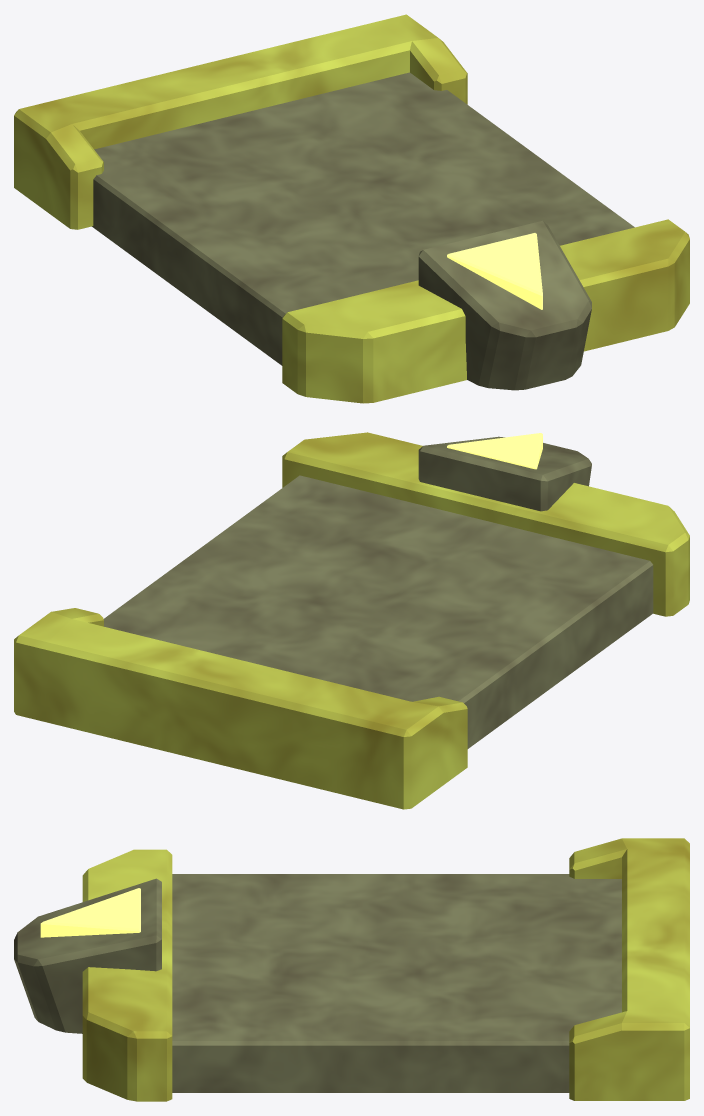
The model's file is yellow_baseplate.glb.
3 renders of one model, top to bottom at view 1: azimuth 30°, elevation 25°; view 2: azimuth 150°, elevation 25°; view 3: azimuth 270°, elevation 25°, orthographic. The views are drawn at different scales.
Visible parts, largest first — view 1: PurplePlate.001; view 2: PurplePlate.001; view 3: PurplePlate.001.
Boxes of the visible parts, x1,y1,x2,y2 form: PurplePlate.001: (14, 14, 689, 403); PurplePlate.001: (14, 432, 689, 809); PurplePlate.001: (14, 838, 689, 1101).
Size of the model in its own units: 0.9761 by 0.2441 by 1.47.
Materials: 1 (1 with a texture image).
